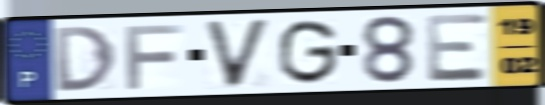8: (359, 13, 418, 85)
D: (51, 24, 120, 94)
E: (423, 11, 491, 84)
F: (121, 22, 187, 92)
G: (276, 17, 341, 87)
V: (201, 16, 274, 91)
